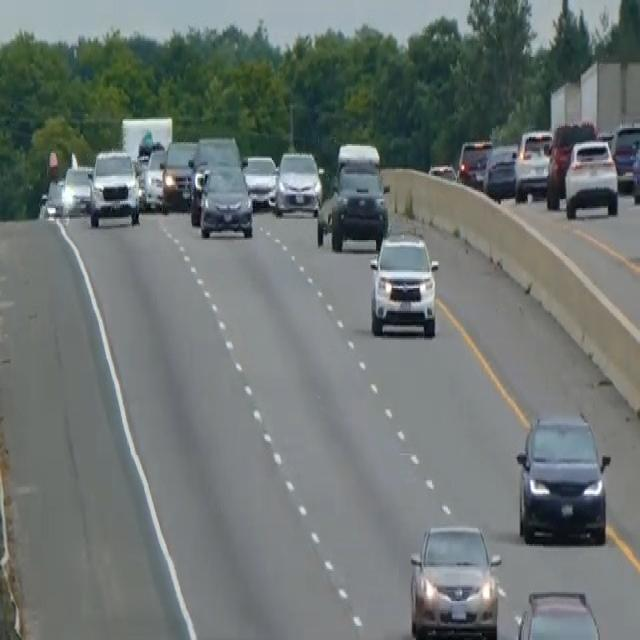car: (515, 409, 610, 546), (408, 521, 501, 638), (329, 160, 389, 251), (563, 135, 619, 219), (188, 133, 241, 217), (514, 587, 601, 638), (545, 119, 596, 206), (87, 148, 140, 228), (198, 162, 253, 238), (274, 147, 322, 217), (513, 126, 553, 203), (161, 137, 197, 210), (190, 133, 241, 178), (482, 140, 518, 201), (241, 151, 277, 208), (611, 119, 639, 190), (457, 137, 492, 188), (62, 163, 91, 217), (142, 146, 166, 210), (335, 140, 380, 172), (43, 178, 64, 218), (428, 160, 457, 183), (631, 133, 639, 203)
jeep: (367, 228, 441, 340)
truck: (120, 114, 173, 170)
